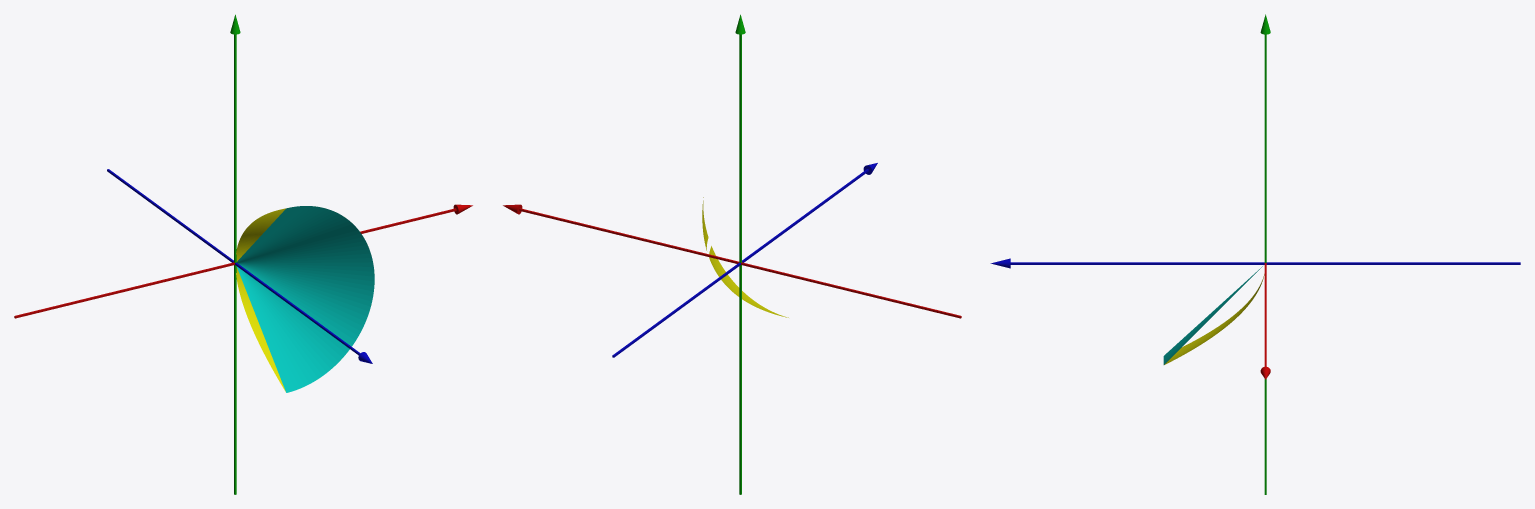
Rendered from Integrales_Triples_Problema_3.glb.
3 views of the same model, side by side, from view 1: azimuth 30°, elevation 25°; view 2: azimuth 150°, elevation 25°; view 3: azimuth 270°, elevation 25° (orthographic).
Visible parts, largest first — view 1: world; view 2: world; view 3: world.
Part boxes in pixels (x1=…): world: x1=14, y1=14, x2=472, y2=494; world: x1=503, y1=14, x2=961, y2=494; world: x1=990, y1=14, x2=1520, y2=494.
Bounding box in the file's own units: 5.2 × 5.2 × 5.2.
